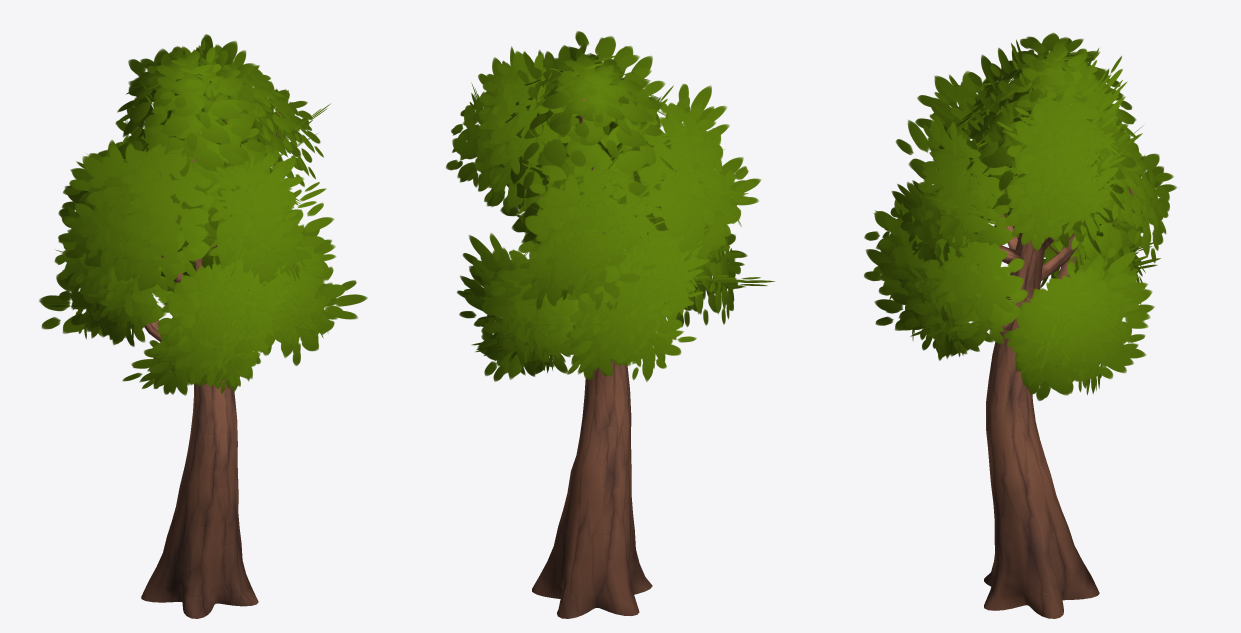
Rendered from tree-tall.glb.
3 views of the same model, side by side, from view 1: azimuth 30°, elevation 25°; view 2: azimuth 150°, elevation 25°; view 3: azimuth 270°, elevation 25° (orthographic). The views are drawn at different scales.
Visible parts, largest first — view 1: CommonTree_1; view 2: CommonTree_1; view 3: CommonTree_1.
Boxes of the visible parts, x1,y1,x2,y2 form: CommonTree_1: (39,34,367,618); CommonTree_1: (446,31,775,618); CommonTree_1: (864,33,1176,618).
Bounding box in the file's own units: 4.31 × 7.26 × 4.58.
Materials: 2 (2 with a texture image).
